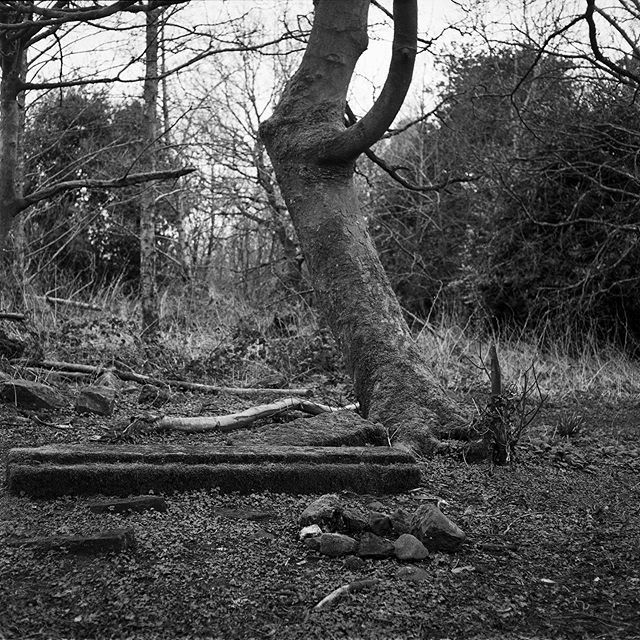rocks: (287, 487, 462, 572)
vegetation: (1, 1, 640, 423)
